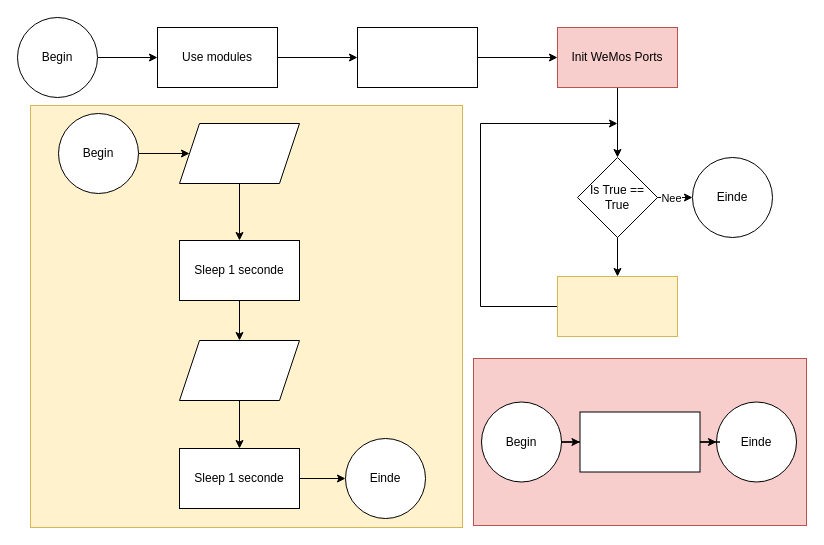
This 824x545 diagram has some shape labels left out. Here are the shapes that lost their labels. From the top down, the centre of each, then its label:
the point at 417,57: Set Constants
the point at 239,153: Poort 2 Off
the point at 617,306: Programma
the point at 239,370: Poort 2 On
the point at 639,441: Poort 2 Output
